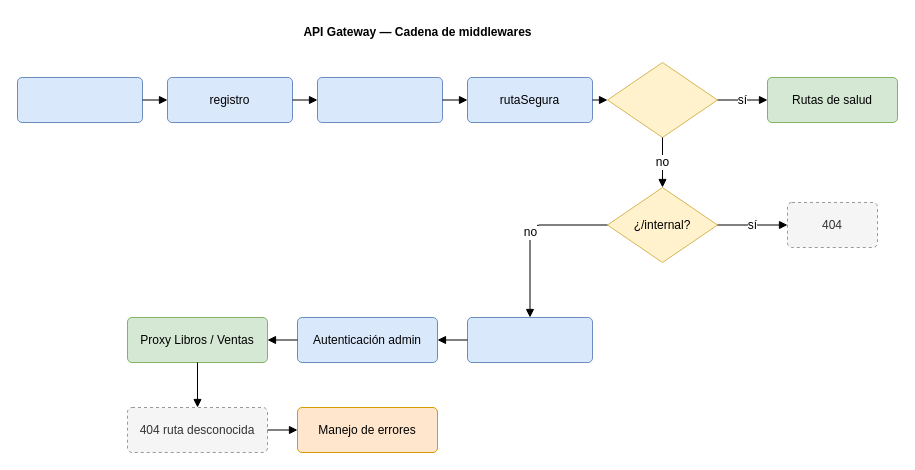
The diagram is 915 pixels wide and 470 high, and some of its shapes have lost their labels. Each missing label, with the box of its shape:
helmet + cors: (316, 76, 442, 122)
Límite /api: (466, 316, 592, 362)
requestId: (16, 76, 142, 122)
¿/health?: (606, 62, 718, 138)
